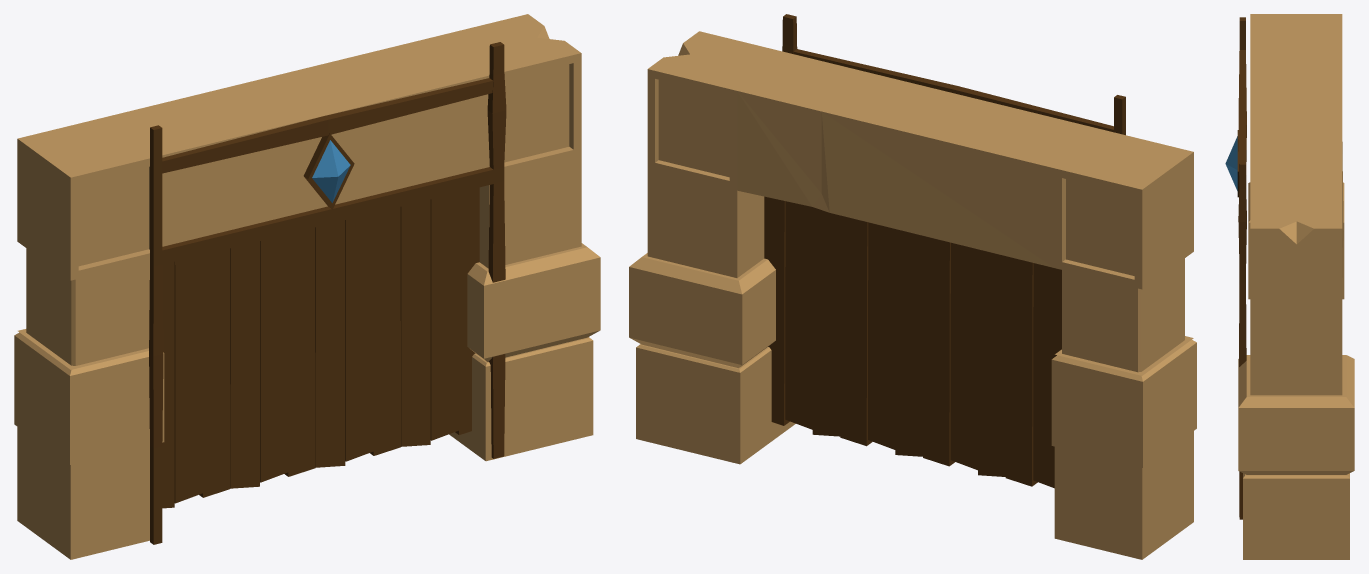
The model's file is EgyptDoor.fbx.
The picture shows the model from 3 angles, left to right: view 1: azimuth 30°, elevation 25°; view 2: azimuth 150°, elevation 25°; view 3: azimuth 270°, elevation 25°; orthographic projection. The views are drawn at different scales.
Visible parts, largest first — view 1: Gem.001, Cube.001; view 2: Gem.001, Cube.001; view 3: Gem.001.
Part boxes in pixels (left/top/right/bottom): Gem.001: left=14, top=14, right=600, bottom=559; Cube.001: left=162, top=187, right=479, bottom=508; Gem.001: left=629, top=14, right=1196, bottom=559; Cube.001: left=764, top=196, right=1061, bottom=488; Gem.001: left=1225, top=14, right=1354, bottom=559.
Size of the model in its own units: 1135 by 859 by 281.
